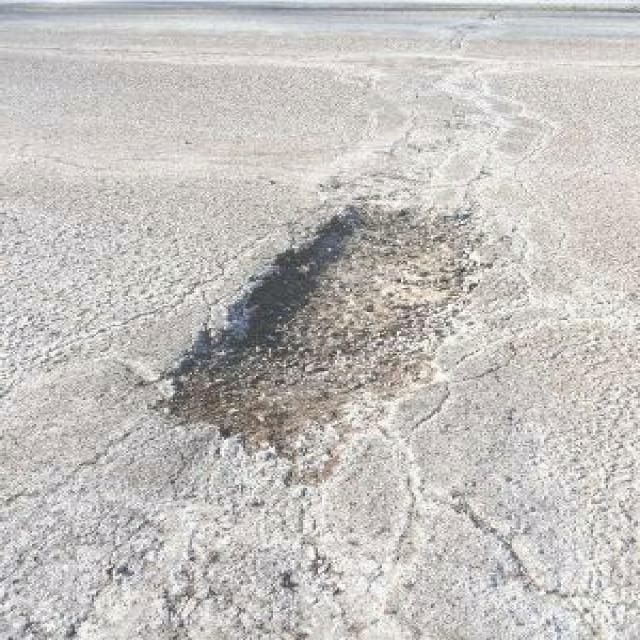Pothole: (154, 194, 503, 477)
